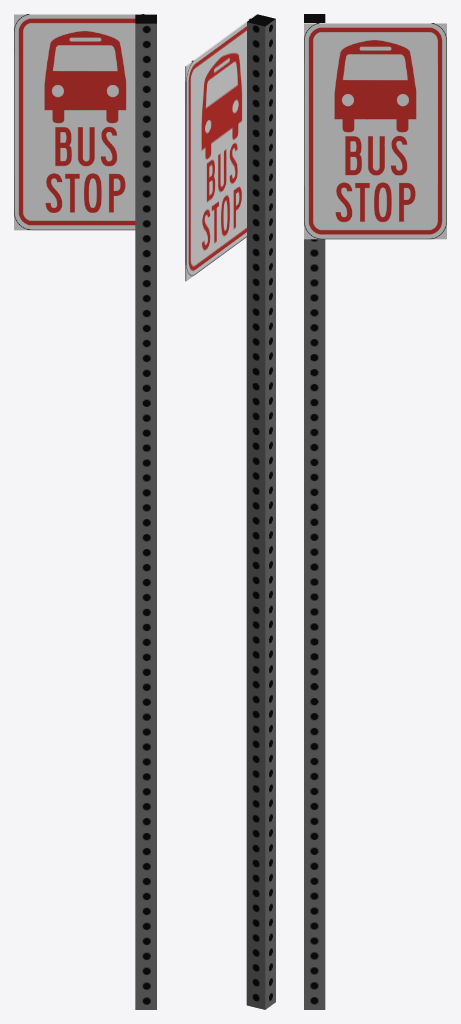
The model's file is BusStop.fbx.
3 renders of one model, left to right at view 1: azimuth 90°, elevation 25°; view 2: azimuth 150°, elevation 25°; view 3: azimuth 270°, elevation 25°, orthographic.
Parts seen in each view (by area): view 1: Cube.001, Cube; view 2: Cube, Cube.001; view 3: Cube.001, Cube.
Boxes of the visible parts, x1=… form: Cube.001: x1=14, y1=14, x2=156, y2=230; Cube: x1=135, y1=14, x2=156, y2=1009; Cube: x1=246, y1=14, x2=275, y2=1009; Cube.001: x1=185, y1=14, x2=256, y2=281; Cube.001: x1=304, y1=23, x2=446, y2=239; Cube: x1=304, y1=14, x2=325, y2=1009.
Size of the model in its own units: 21.3 by 1014 by 133.
1 material, 1 textured.
